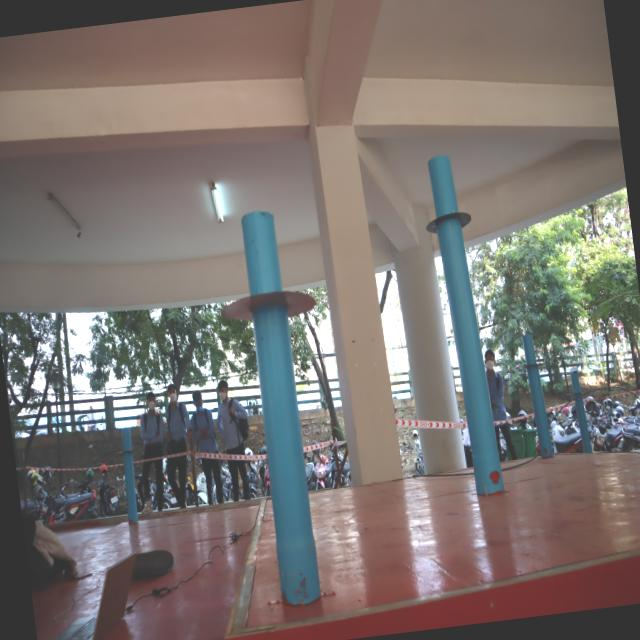pole: (204, 199, 320, 374), (409, 148, 479, 264), (512, 323, 546, 383), (110, 422, 144, 472)
